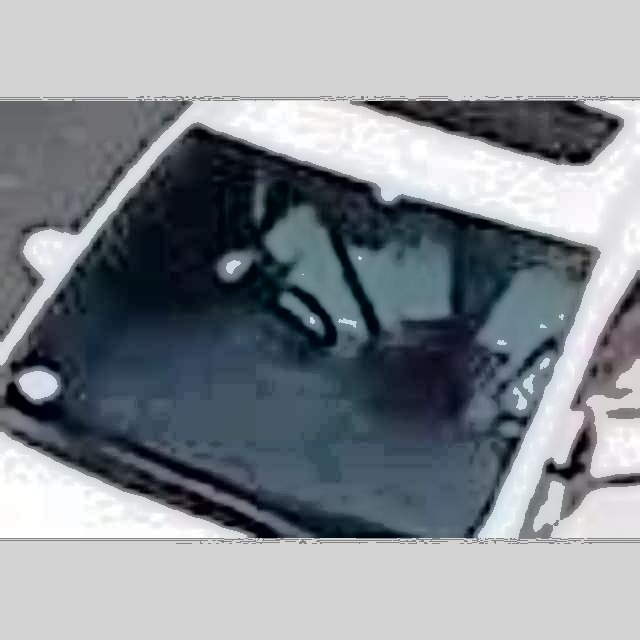pakai: (251, 186, 432, 352), (453, 245, 592, 437)
